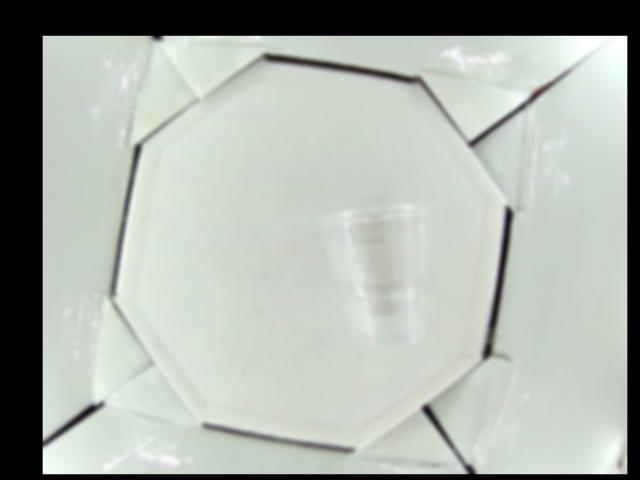Cup: (325, 203, 434, 345)
